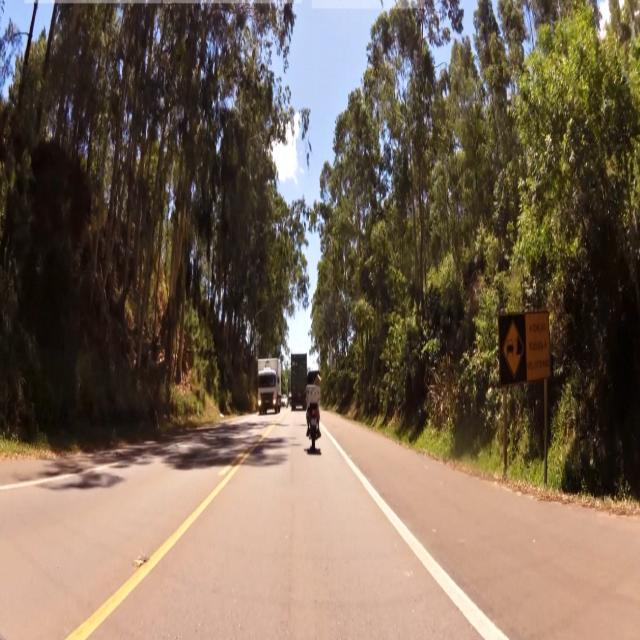A-27: (503, 322, 525, 379)
